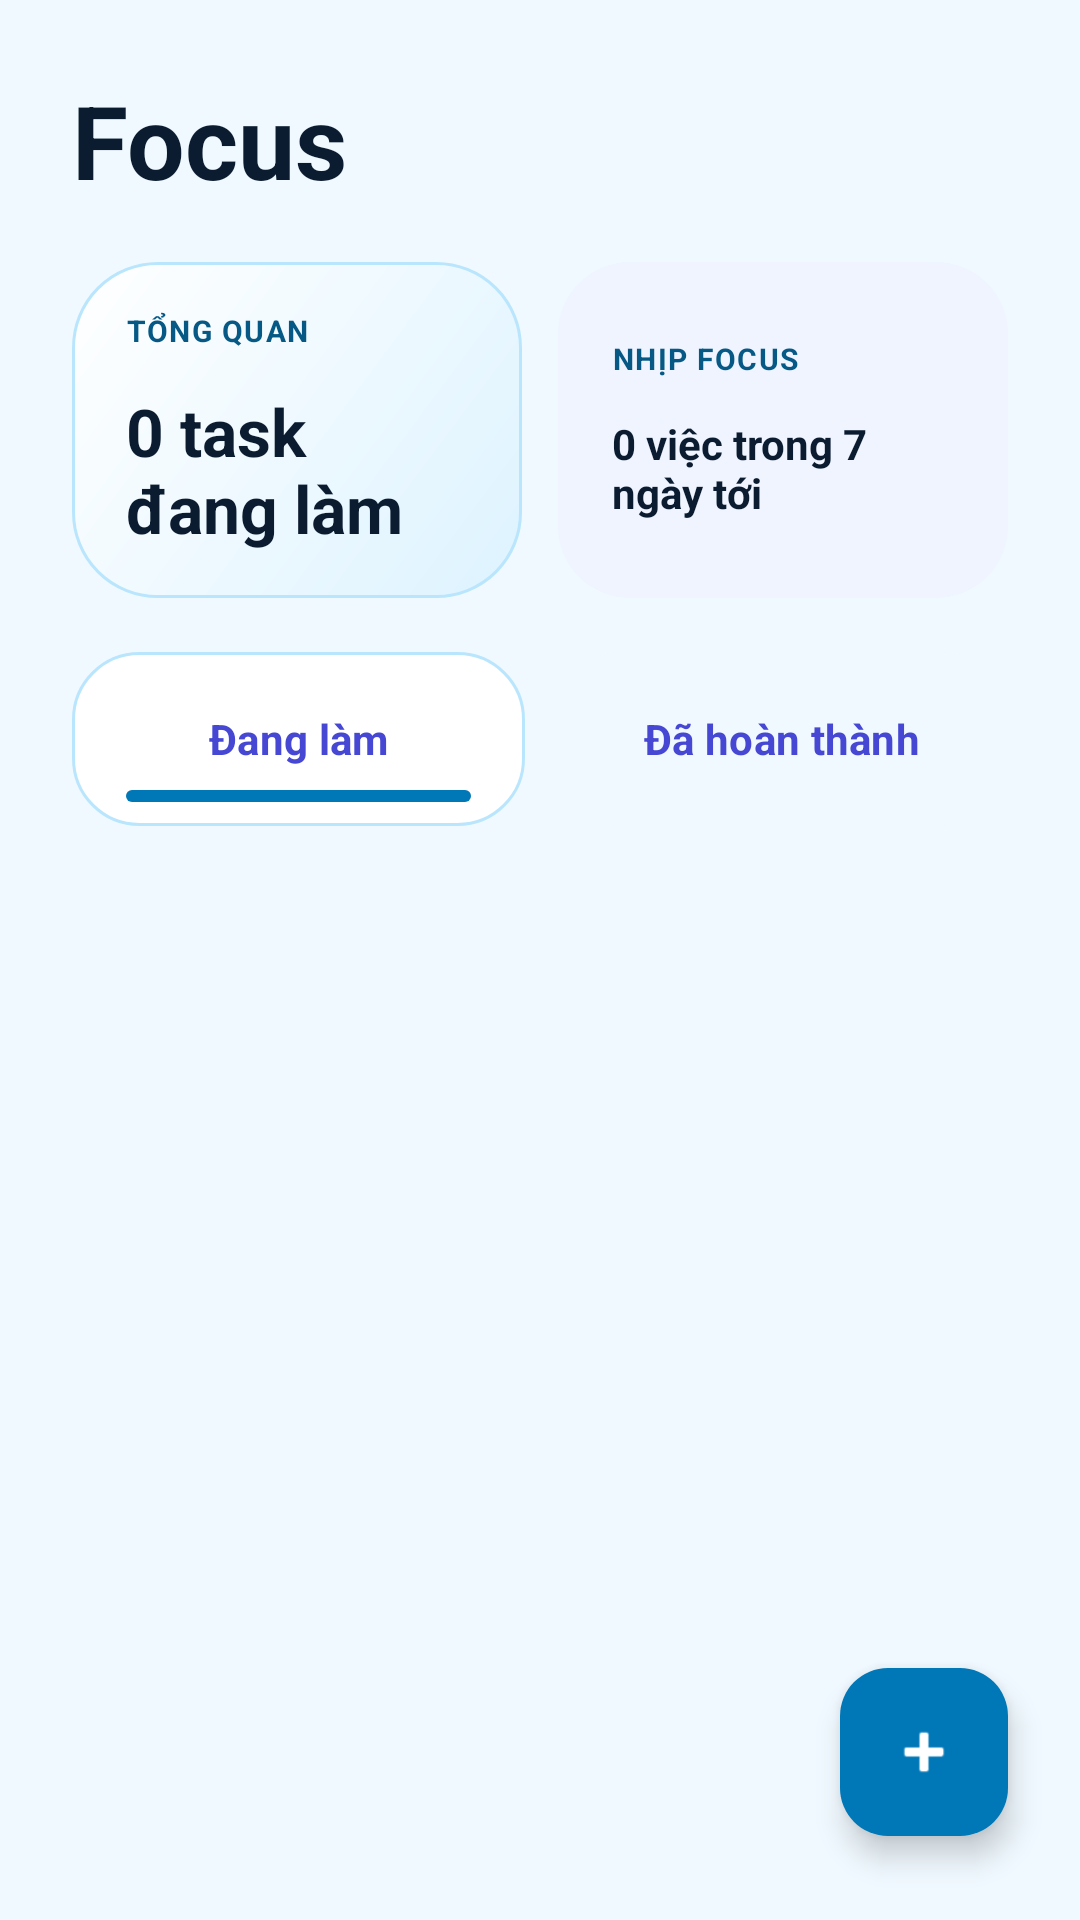

Icons on this 1080 × 1920 Android screen, each with its box as bbox=(x1, y1, x2, y2):
Thêm task: bbox=(840, 1668, 1008, 1836)
